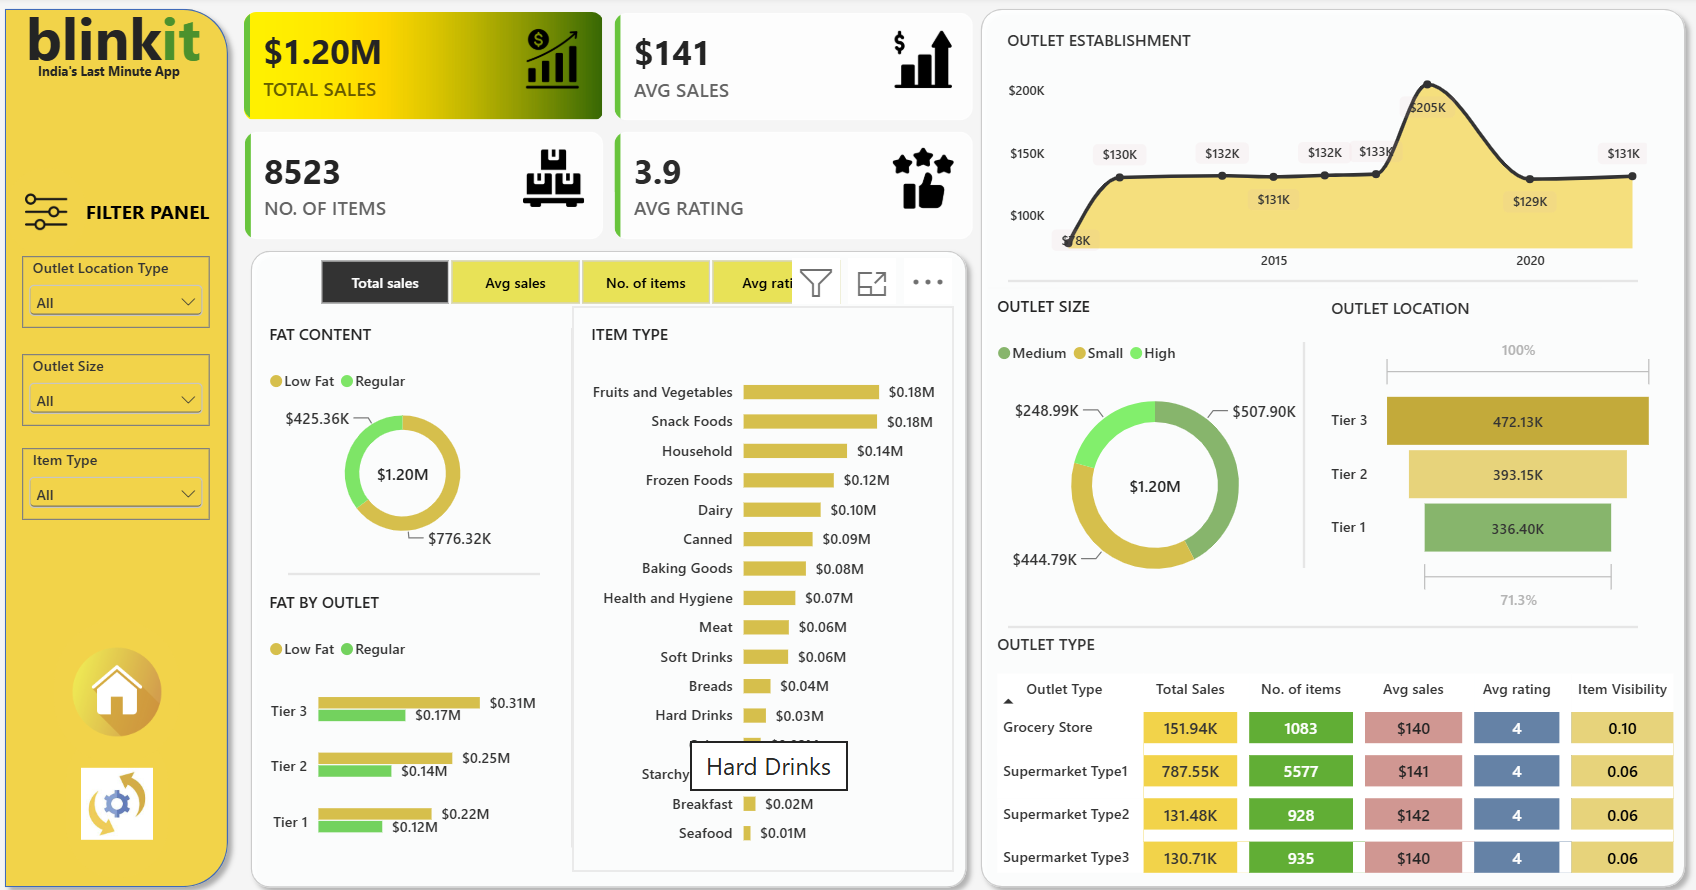

The page's visual inventory and layout, read from the dashboard file:
{"tool":"powerbi","page":{"name":"Page 1","canvas":[1600,900],"ordinal":0},"visuals":[{"type":"shape","box":[0,0,204,750],"z":0},{"type":"textbox","box":[10,760,204,640],"z":1000},{"type":"textbox","box":[26.4,0,150,652.7],"z":2000},{"type":"textbox","box":[261.8,1094.5,89.1,306.4],"z":4000},{"type":"textbox","box":[37.3,50,150,40.9],"z":5000},{"type":"cardVisual","fields":{"Data":["BlinkIT Grocery Data.Total sales","BlinkIT Grocery Data.Average sales","BlinkIT Grocery Data.No. of items","BlinkIT Grocery Data.Avg rating"]},"box":[208.6,11.4,608.6,190],"z":6000},{"type":"shape","box":[205.7,201.4,614.3,548.6],"z":7000},{"type":"donutChart","title":"FAT CONTENT","fields":{"Category":["BlinkIT Grocery Data.Item Fat Content"],"Y":["BlinkIT Grocery Data.Total sales"]},"box":[213.3,256.7,254.3,218.6],"z":8000},{"type":"slicer","fields":{"Values":["Metrics.Metrics"]},"box":[251.4,217.1,472.5,40],"z":9000},{"type":"clusteredBarChart","title":"FAT BY OUTLET","fields":{"Category":["BlinkIT Grocery Data.Outlet Location Type"],"Series":["BlinkIT Grocery Data.Item Fat Content"],"Y":["BlinkIT Grocery Data.Total sales"]},"box":[213.3,480,254.3,252.9],"z":10000},{"type":"shape","box":[828.6,237.1,511.4,10],"z":11000},{"type":"shape","box":[462.9,275.7,37.1,432.9],"z":12000},{"type":"barChart","title":"ITEM TYPE","fields":{"Category":["BlinkIT Grocery Data.Item Type"],"Y":["BlinkIT Grocery Data.Total sales"]},"box":[481.4,257.1,318.6,471.4],"z":13000},{"type":"shape","box":[813.3,0,605,750],"z":14000},{"type":"lineChart","title":"OUTLET ESTABLISHMENT","fields":{"Category":["BlinkIT Grocery Data.Outlet Establishment Year"],"Y":["BlinkIT Grocery Data.Total sales"]},"box":[828.3,11.7,565,235],"z":15000},{"type":"shape","box":[245.7,475.7,210,10],"z":16000},{"type":"shape","box":[845,230,525,11.7],"z":17000},{"type":"donutChart","title":"OUTLET SIZE","fields":{"Category":["BlinkIT Grocery Data.Outlet Size"],"Y":["BlinkIT Grocery Data.Total sales"]},"box":[820,233.3,295,285],"z":18000},{"type":"shape","box":[1085,286.7,13.3,188.3],"z":19000},{"type":"funnel","title":"OUTLET LOCATION","fields":{"Category":["BlinkIT Grocery Data.Outlet Location Type"],"Y":["Sum(BlinkIT Grocery Data.Sales)"]},"box":[1098.3,235,301.7,291.7],"z":20000},{"type":"pivotTable","title":"OUTLET TYPE","fields":{"Rows":["BlinkIT Grocery Data.Outlet Type"],"Values":["Sum(BlinkIT Grocery Data.Sales)","BlinkIT Grocery Data.No. of items","BlinkIT Grocery Data.Average sales","BlinkIT Grocery Data.Avg rating","Avg(BlinkIT Grocery Data.Item Visibility)"]},"box":[820,515,665,238.3],"z":21000},{"type":"shape","box":[845,515,525,18.3],"z":22000},{"type":"slicer","fields":{"Values":["BlinkIT Grocery Data.Outlet Location Type"]},"box":[23.3,215,156.7,60],"z":23000},{"type":"slicer","fields":{"Values":["BlinkIT Grocery Data.Outlet Size"]},"box":[23.3,296.7,156.7,60],"z":24000},{"type":"slicer","fields":{"Values":["BlinkIT Grocery Data.Item Type"]},"box":[23.3,375,156.7,60],"z":25000},{"type":"textbox","box":[76.7,166.7,126.7,23.3],"z":25001},{"type":"actionButton","box":[60,610,85,123.3],"z":25002},{"type":"actionButton","box":[50,518.3,105,120],"z":25003},{"type":"actionButton","box":[10,141.7,66.7,73.3],"z":25004}]}

Visuals, with their boxes on the page's 1600x900 design canvas (x1, y1, x2, y2). These are canvas units, not pixel positions in the 1696x890 screenshot, which may show the page scaled, cropped or inside an application window:
shape: bbox(0, 0, 204, 750)
textbox: bbox(10, 760, 214, 1400)
textbox: bbox(26, 0, 176, 653)
textbox: bbox(262, 1094, 351, 1401)
textbox: bbox(37, 50, 187, 91)
cardVisual - BlinkIT Grocery Data.Total sales x BlinkIT Grocery Data.Average sales: bbox(209, 11, 817, 201)
shape: bbox(206, 201, 820, 750)
"FAT CONTENT" donutChart: bbox(213, 257, 468, 475)
slicer - Metrics.Metrics: bbox(251, 217, 724, 257)
"FAT BY OUTLET" clusteredBarChart: bbox(213, 480, 468, 733)
shape: bbox(829, 237, 1340, 247)
shape: bbox(463, 276, 500, 709)
"ITEM TYPE" barChart: bbox(481, 257, 800, 728)
shape: bbox(813, 0, 1418, 750)
"OUTLET ESTABLISHMENT" lineChart: bbox(828, 12, 1393, 247)
shape: bbox(246, 476, 456, 486)
shape: bbox(845, 230, 1370, 242)
"OUTLET SIZE" donutChart: bbox(820, 233, 1115, 518)
shape: bbox(1085, 287, 1098, 475)
"OUTLET LOCATION" funnel: bbox(1098, 235, 1400, 527)
"OUTLET TYPE" pivotTable: bbox(820, 515, 1485, 753)
shape: bbox(845, 515, 1370, 533)
slicer - BlinkIT Grocery Data.Outlet Location Type: bbox(23, 215, 180, 275)
slicer - BlinkIT Grocery Data.Outlet Size: bbox(23, 297, 180, 357)
slicer - BlinkIT Grocery Data.Item Type: bbox(23, 375, 180, 435)
textbox: bbox(77, 167, 203, 190)
actionButton: bbox(60, 610, 145, 733)
actionButton: bbox(50, 518, 155, 638)
actionButton: bbox(10, 142, 77, 215)
